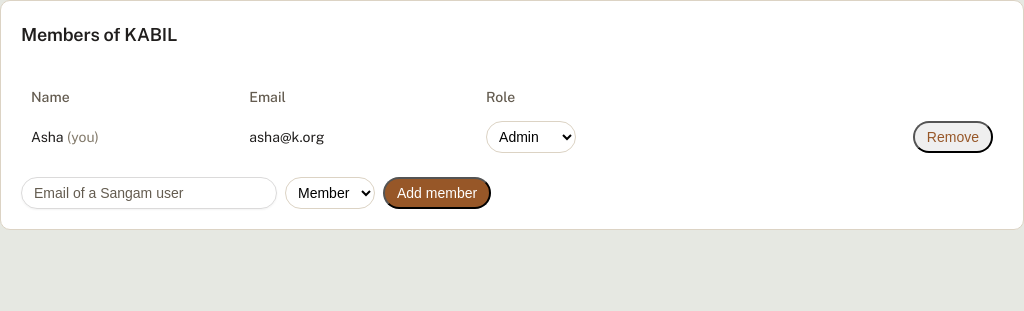
OrgMembersCard › shows the server's error and keeps the email typed
Type "x@y.org" into the field named "Email of the person to add" at (149, 193), box [21,177,277,209]
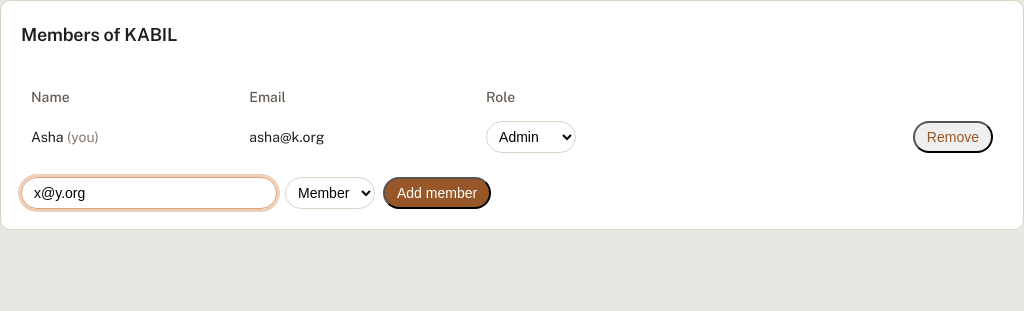
Click the button "Add member" at (437, 193), box [383,177,491,209]
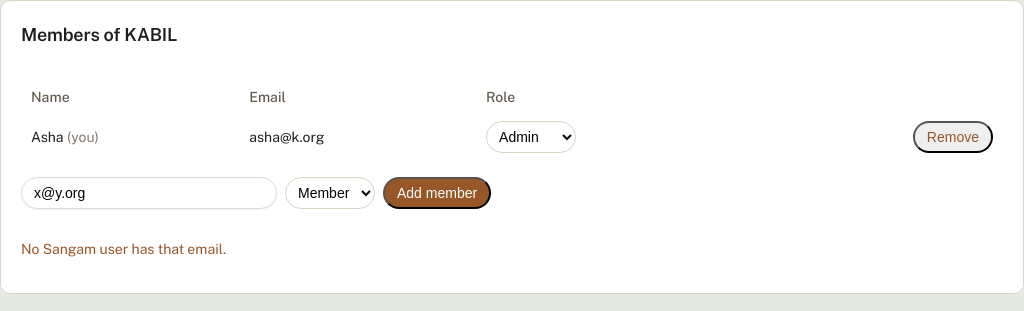
Expected: the text "asha@k.org" is shown, [241,115,476,159]
Expected: the text "No Sangam user has that email." is shown, [21,241,226,257]
